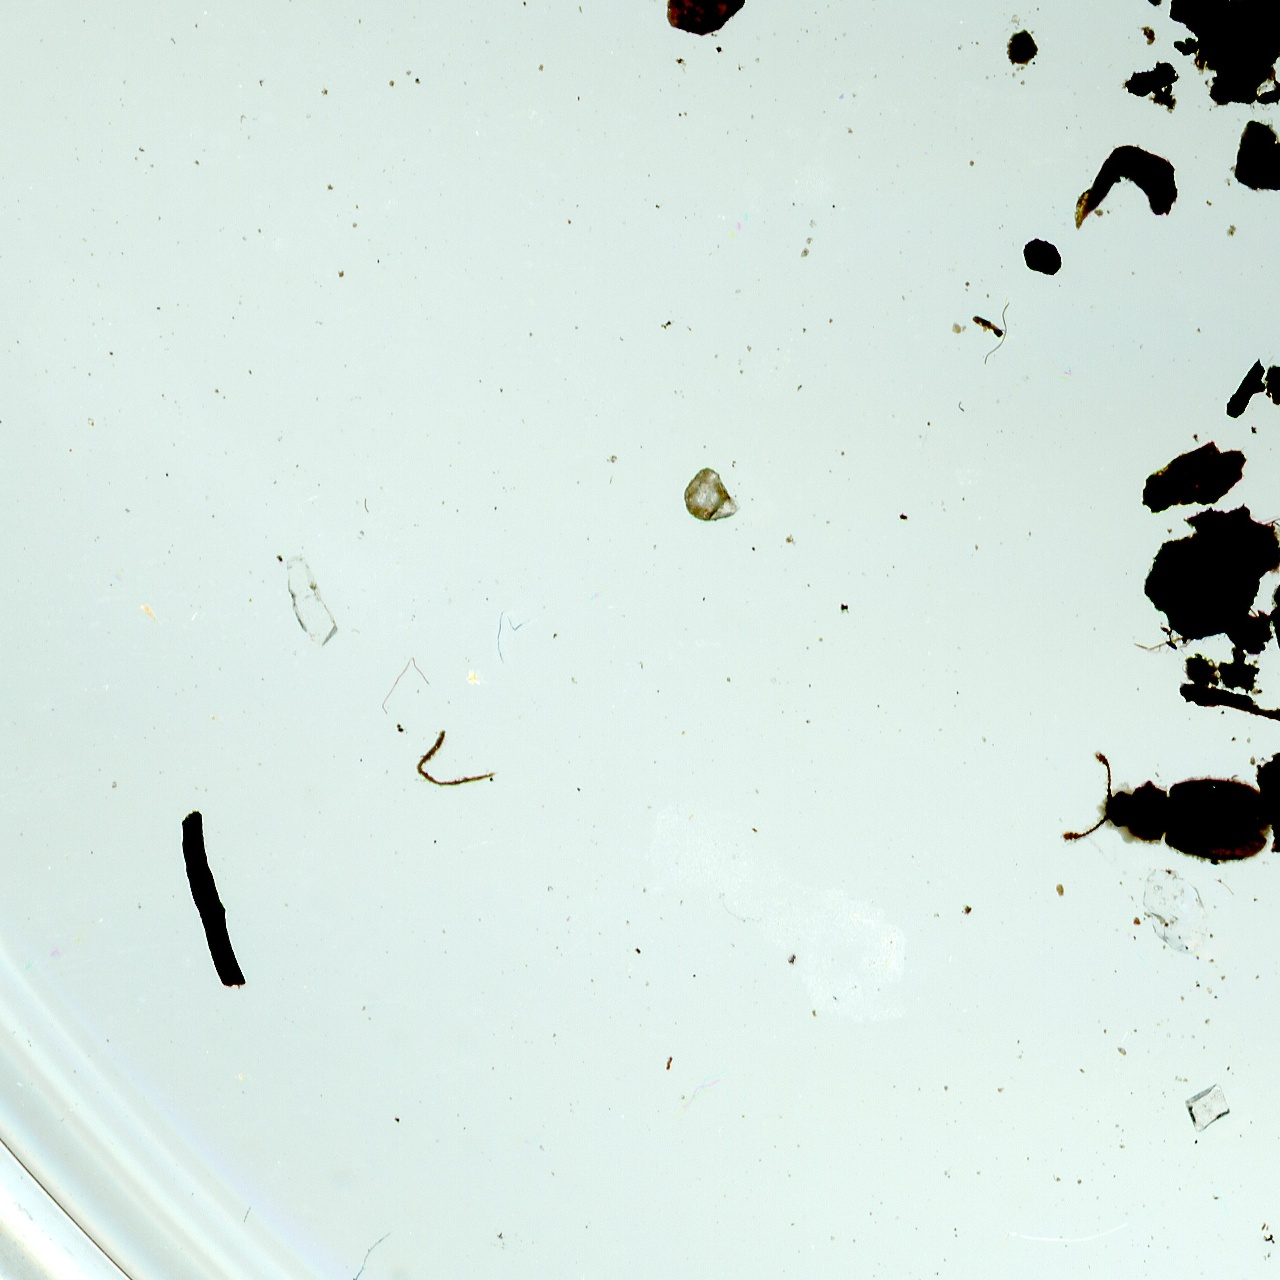arthropod: (1055, 744, 1276, 873), (1265, 130, 1280, 290)
